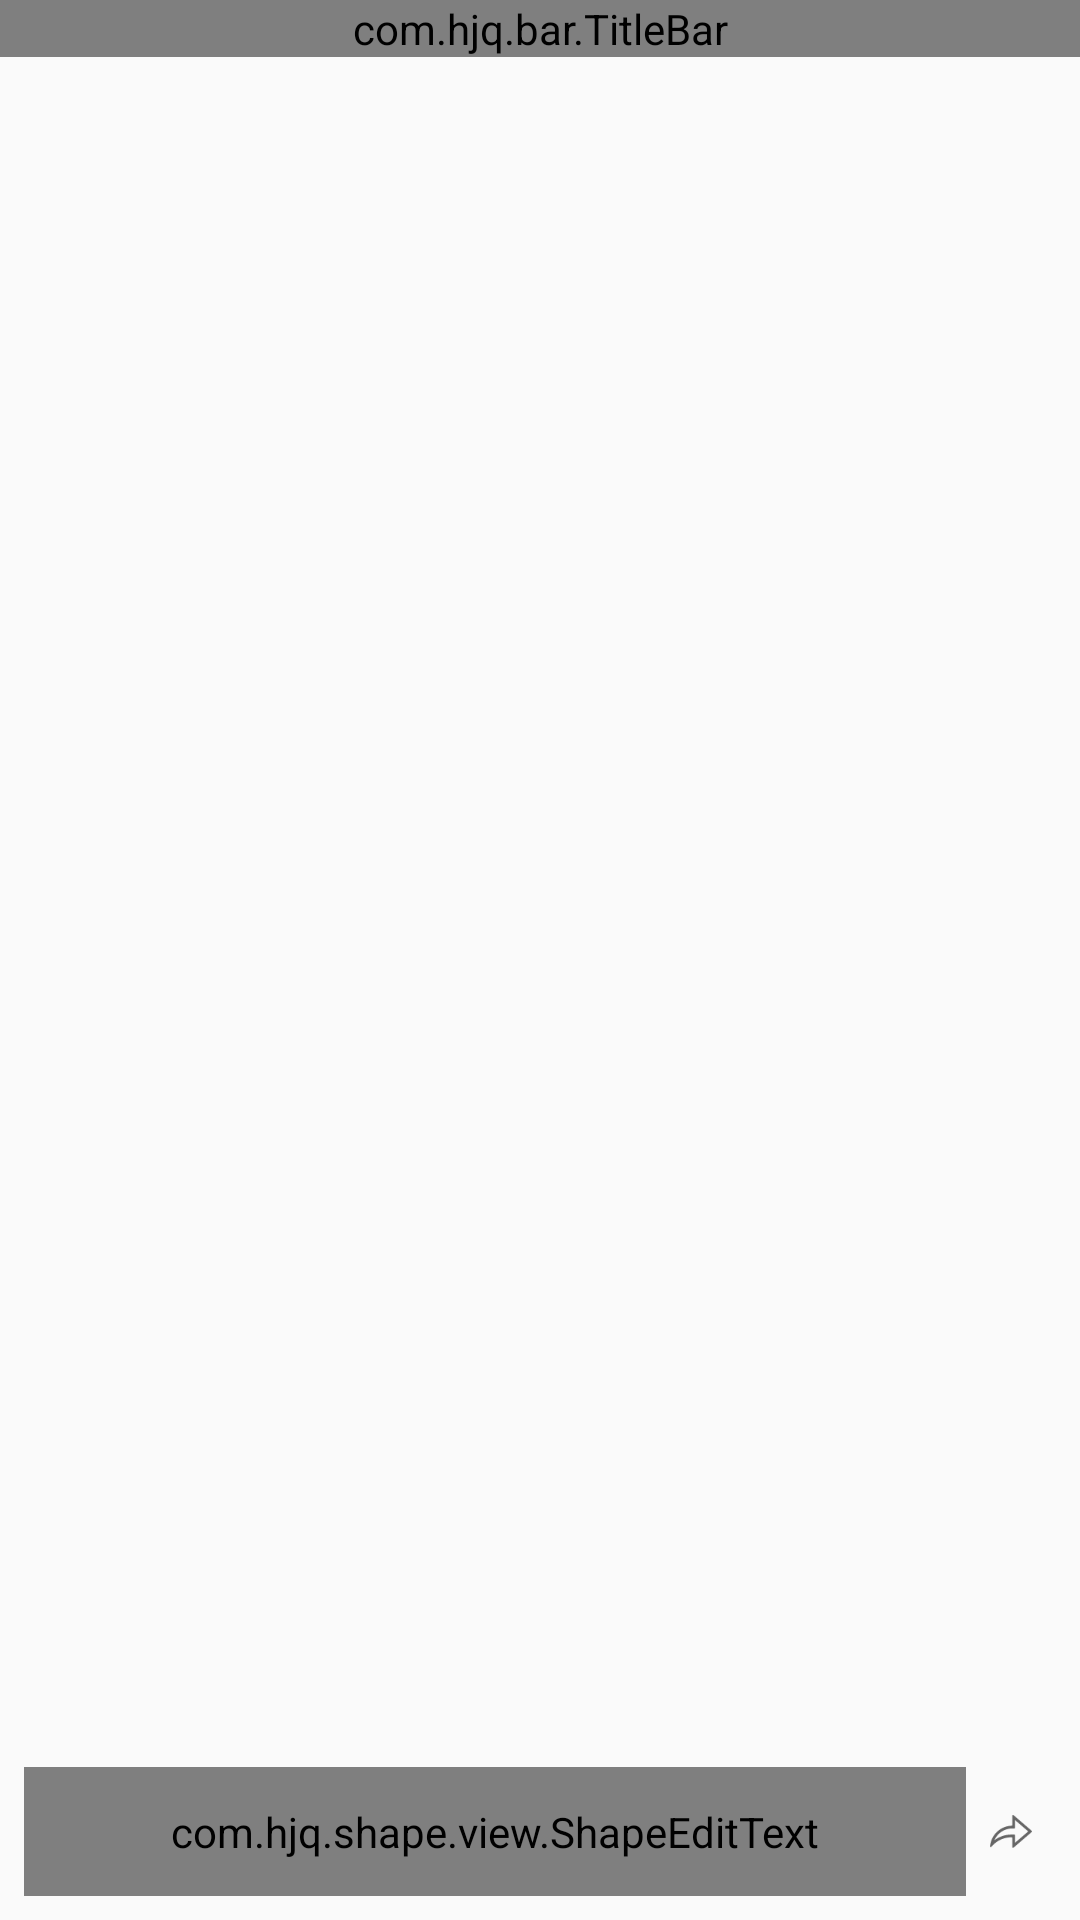

Named icons in this screenshot (1080px x 1920px) and their bounding boxes, (x1, y1, x2, y2):
Send: (990, 1815, 1032, 1848)
